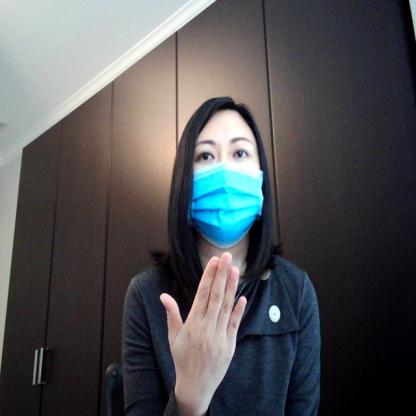thanks: (162, 256, 251, 415)
